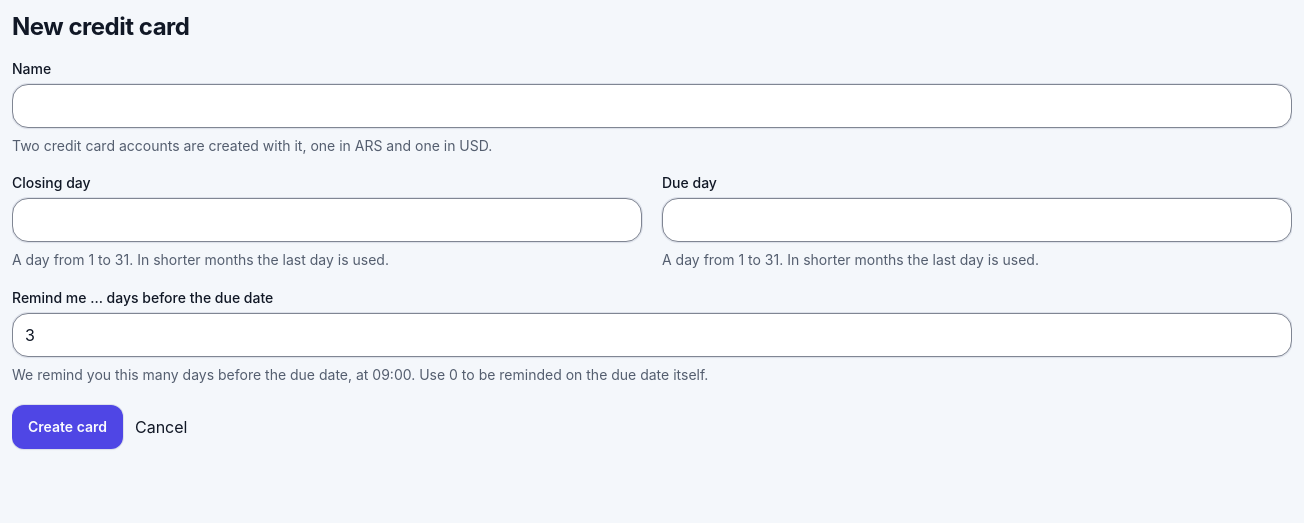
Test case: CreateCreditCardContainer › shows field messages for day 32 and an empty name and sends nothing (invalid input, AC-02)
Type "32" into the field labelled "Closing day" at (327, 220), box [12,198,642,242]
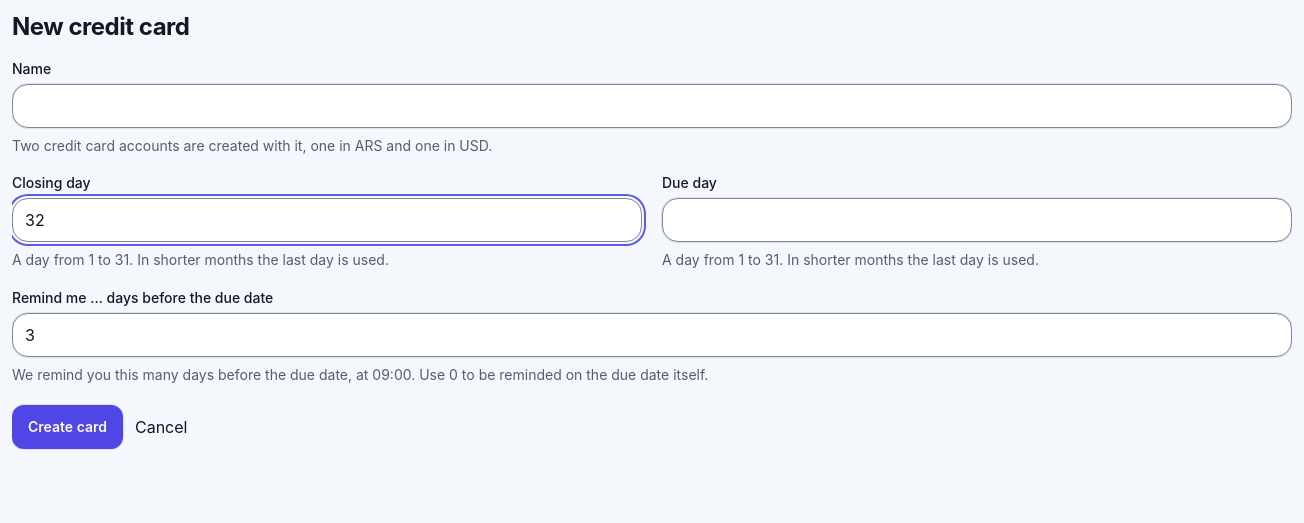
Type "5" into the field labelled "Due day" at (977, 220), box [662,198,1292,242]
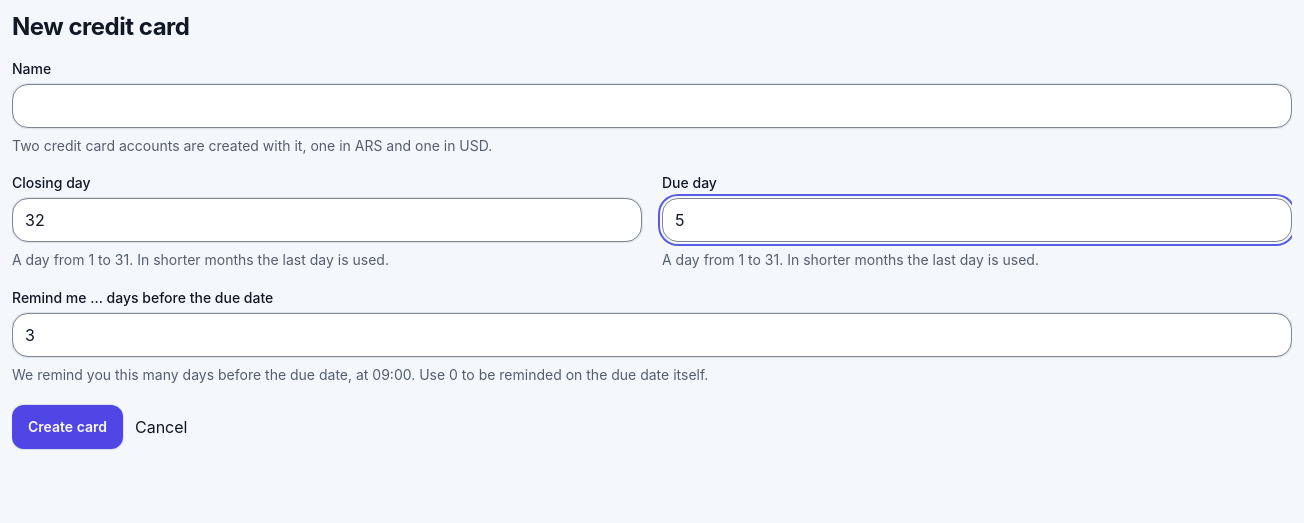
Click the button "Create card" at (68, 427), box [12,405,123,449]
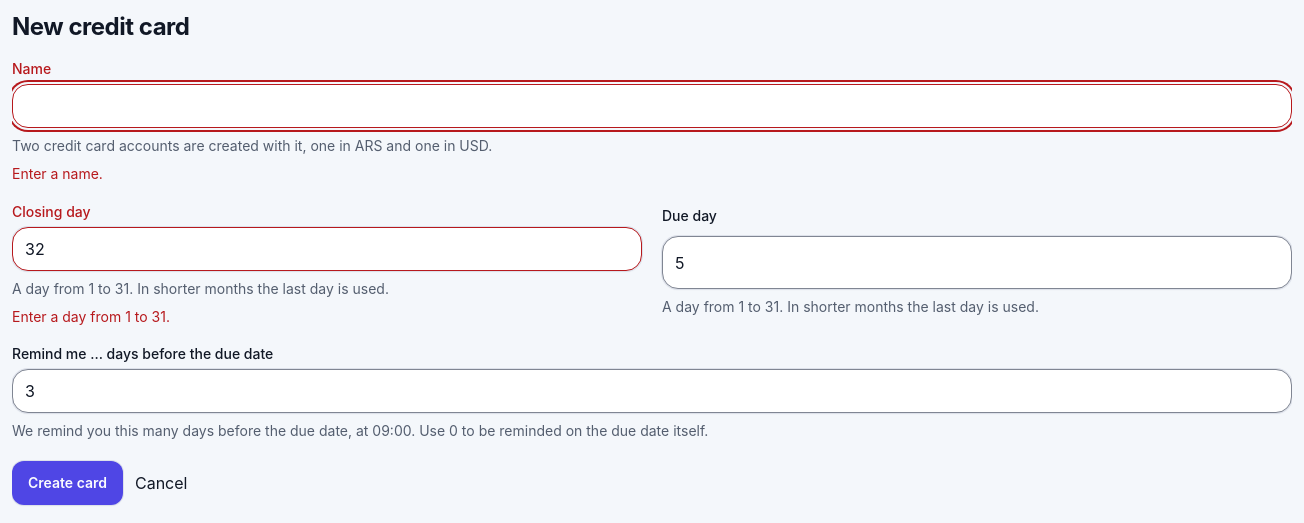
Result: the text "Enter a day from 1 to 31." is shown at [12,308,170,325]
Result: the text "Enter a name." is shown at [12,165,103,182]
